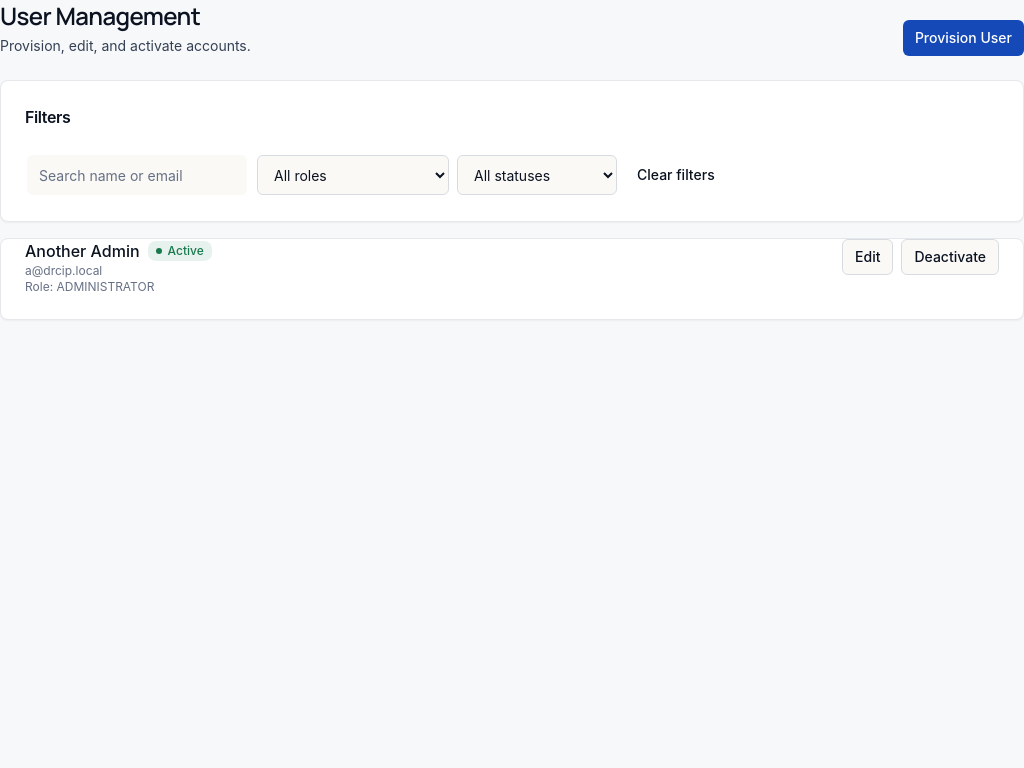
Phase 6 — deactivate error feedback › shows the domain message for SELF_DEACTIVATION-style 400 errors
This screenshot has width=1024, height=768.
Click the button with test id "deactivate-user" at [950, 257], box [902,239,999,275]
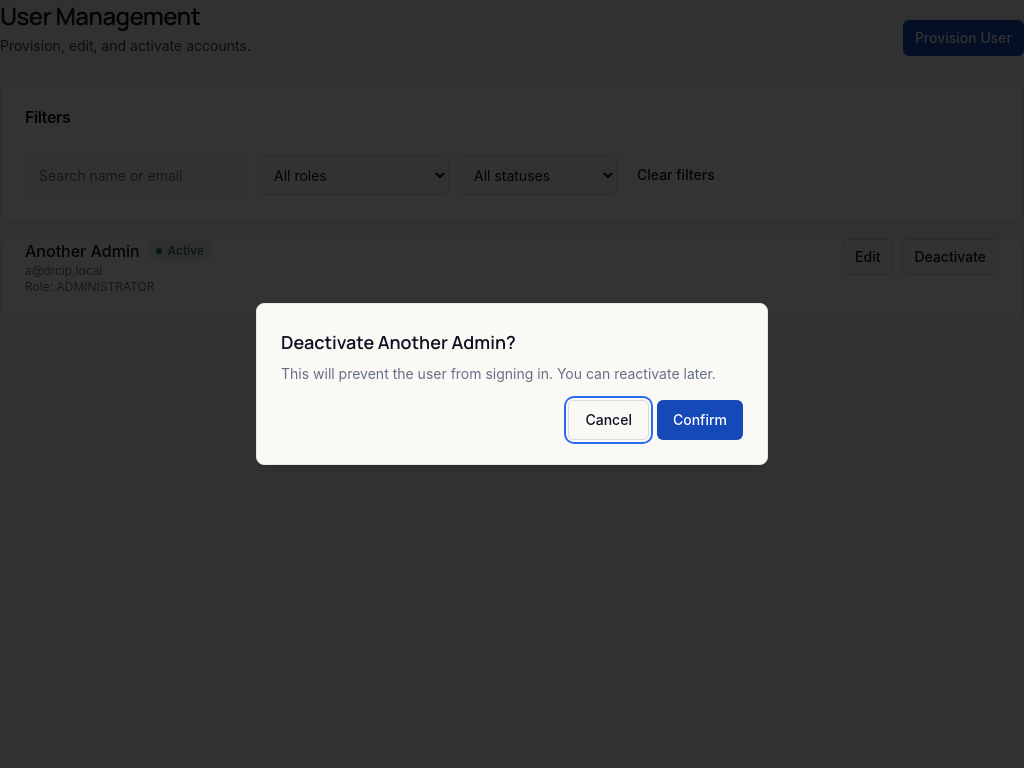
Click the button "Confirm" at [700, 420], box [657,400,743,440]
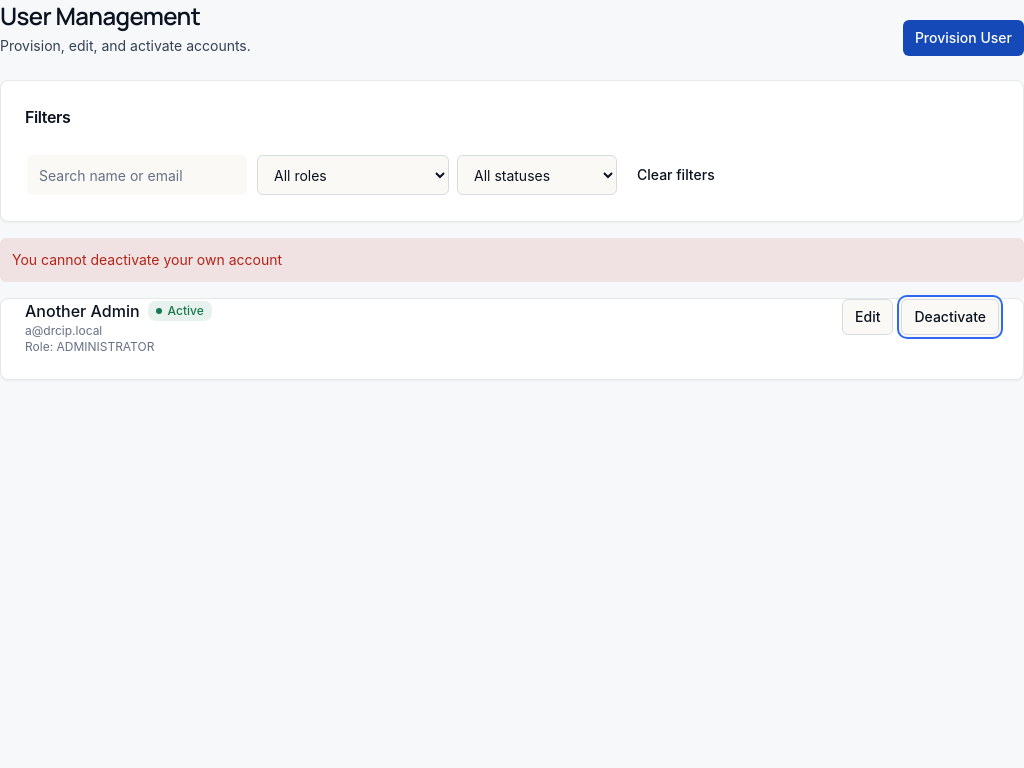
Expected: the message reads "You cannot deactivate your own account", [12,251,282,268]
